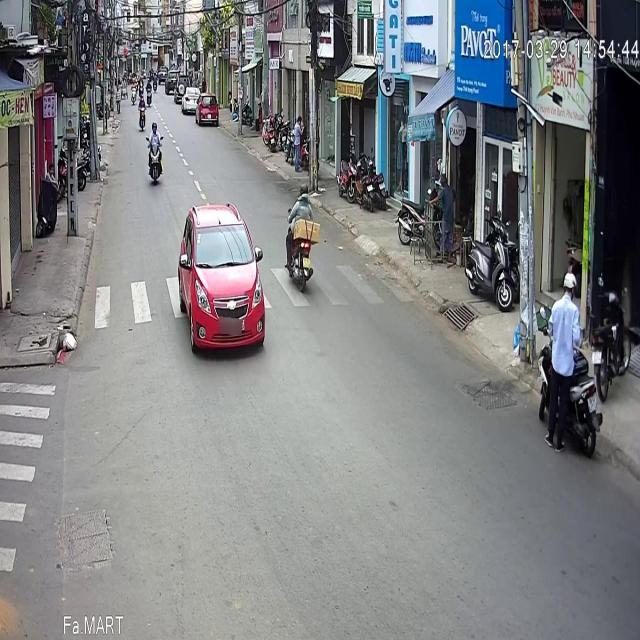car: (176, 150, 266, 302), (196, 33, 218, 67)
motorcycle: (537, 208, 603, 403), (284, 124, 318, 230), (147, 63, 163, 124), (137, 35, 146, 73)
